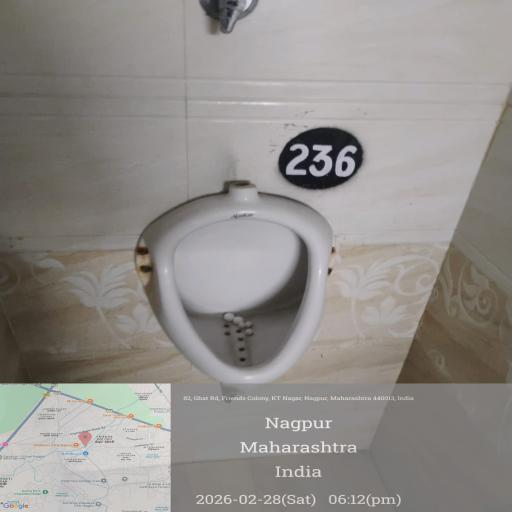clean_floor: (0, 0, 494, 198), (15, 347, 512, 512)
clean_urinal: (71, 166, 352, 396)
